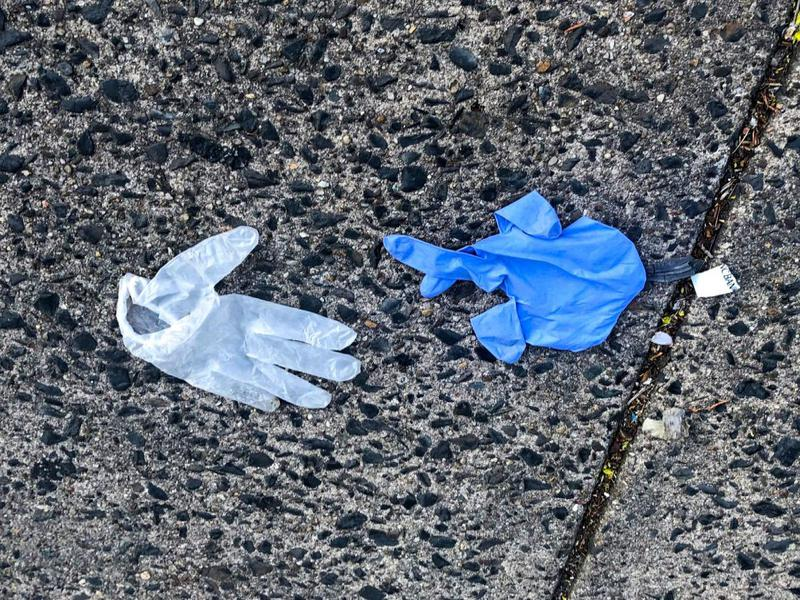gloves: (103, 224, 375, 418), (380, 187, 653, 372)
